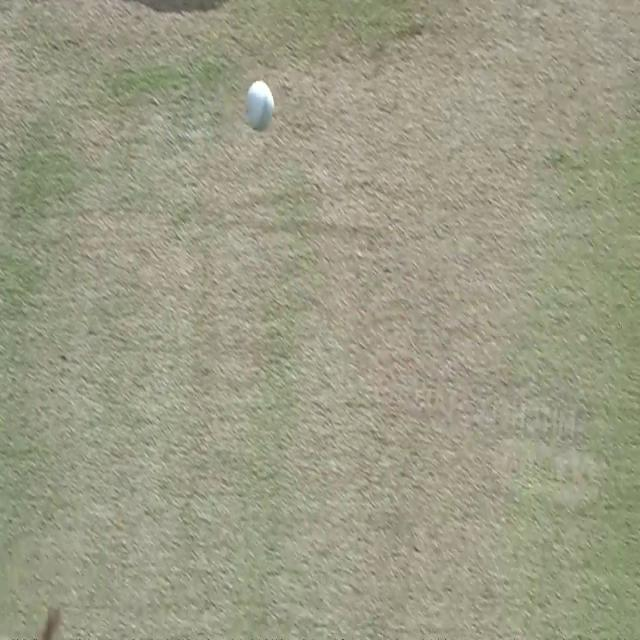ball: (241, 80, 277, 132)
